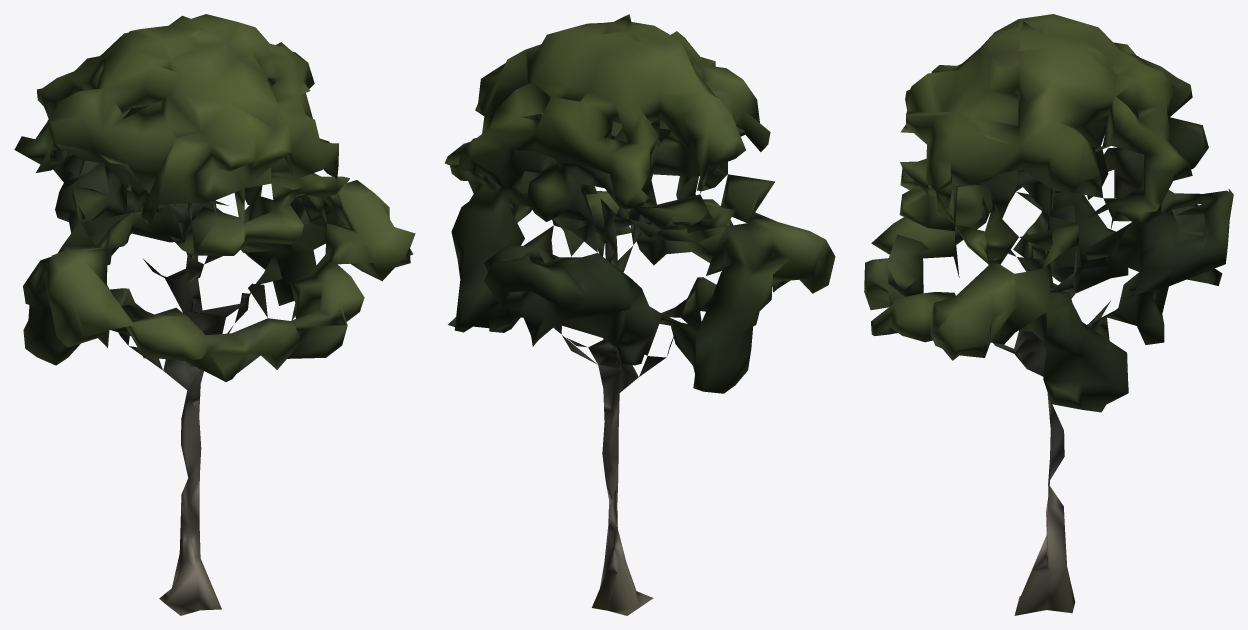
Rendered from baum.glb.
3 views of the same model, side by side, from view 1: azimuth 30°, elevation 25°; view 2: azimuth 150°, elevation 25°; view 3: azimuth 270°, elevation 25° (orthographic).
Bounding box in the file's own units: 1.23 × 1.98 × 1.13.
